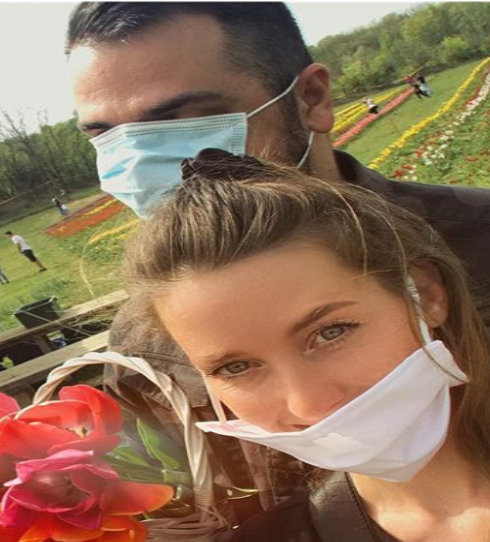mask_weared_incorrect: (150, 190, 461, 482), (55, 2, 334, 224)
